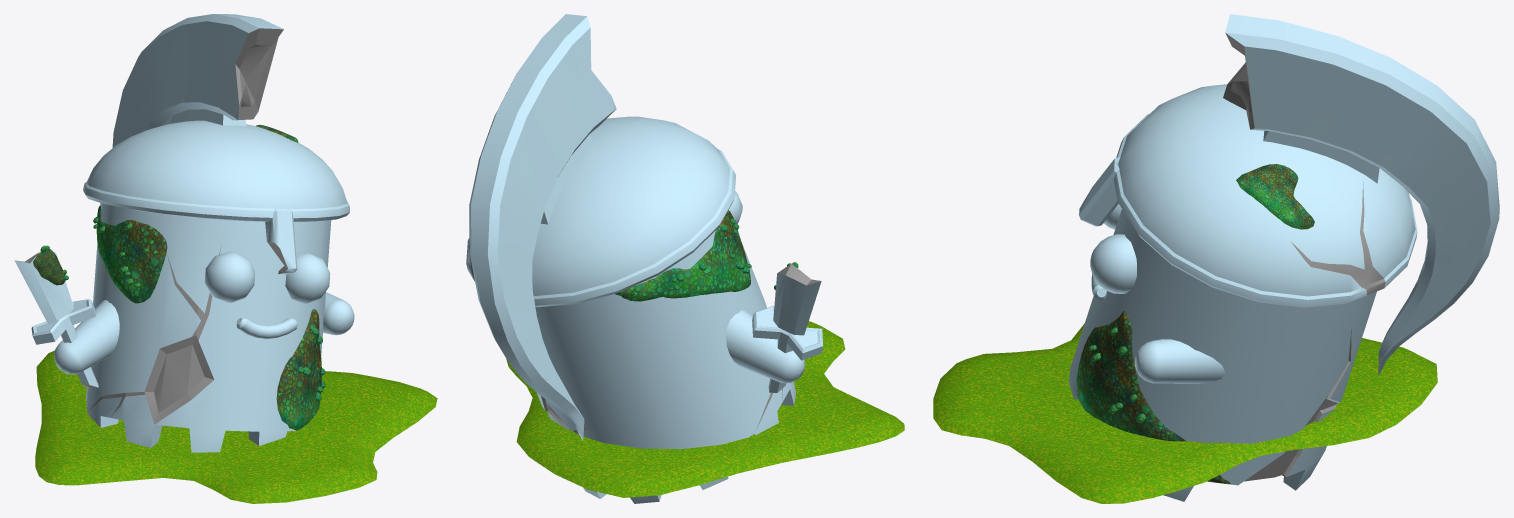
File: OldStatue4.fbx
3 renders of one model, left to right at view 1: azimuth 30°, elevation 25°; view 2: azimuth 150°, elevation 25°; view 3: azimuth 270°, elevation 25°, orthographic. The views are drawn at different scales.
Visible parts, largest first — view 1: OldGotchi4_LOD0; view 2: OldGotchi4_LOD0; view 3: OldGotchi4_LOD0.
Part boxes in pixels (bbox=[...]): OldGotchi4_LOD0: bbox=[14, 14, 437, 503]; OldGotchi4_LOD0: bbox=[466, 14, 904, 503]; OldGotchi4_LOD0: bbox=[933, 14, 1499, 503].
Size of what is drawn, in the model's own units: 3583 by 3803 by 3971.
